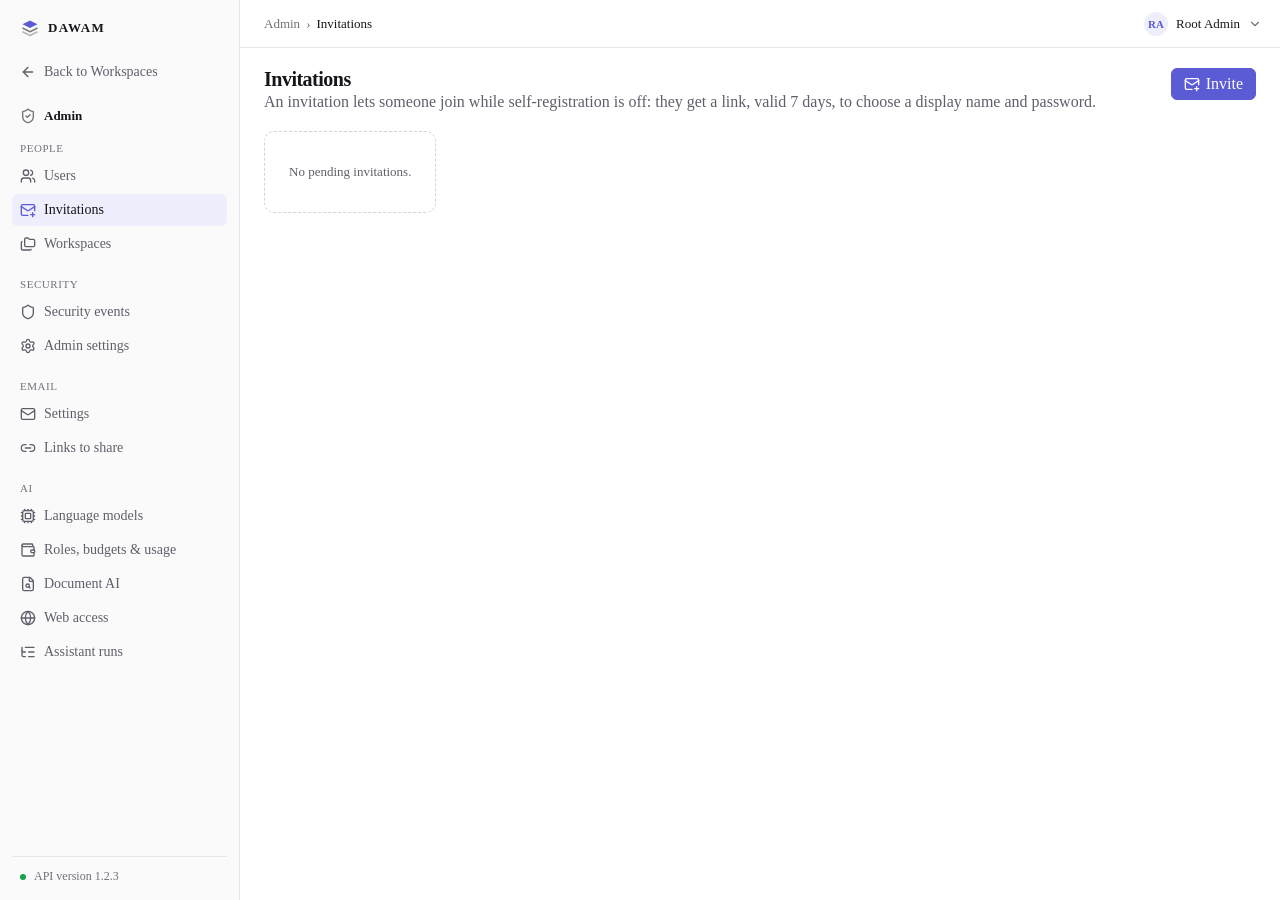
Scenario: inviting someone › shows why an invitation was refused
Expected: the text "No pending invitations." is shown, [289,164,411,180]
Step 1. Click the button "Invite" → point(1213, 84), box [1171,68,1256,100]
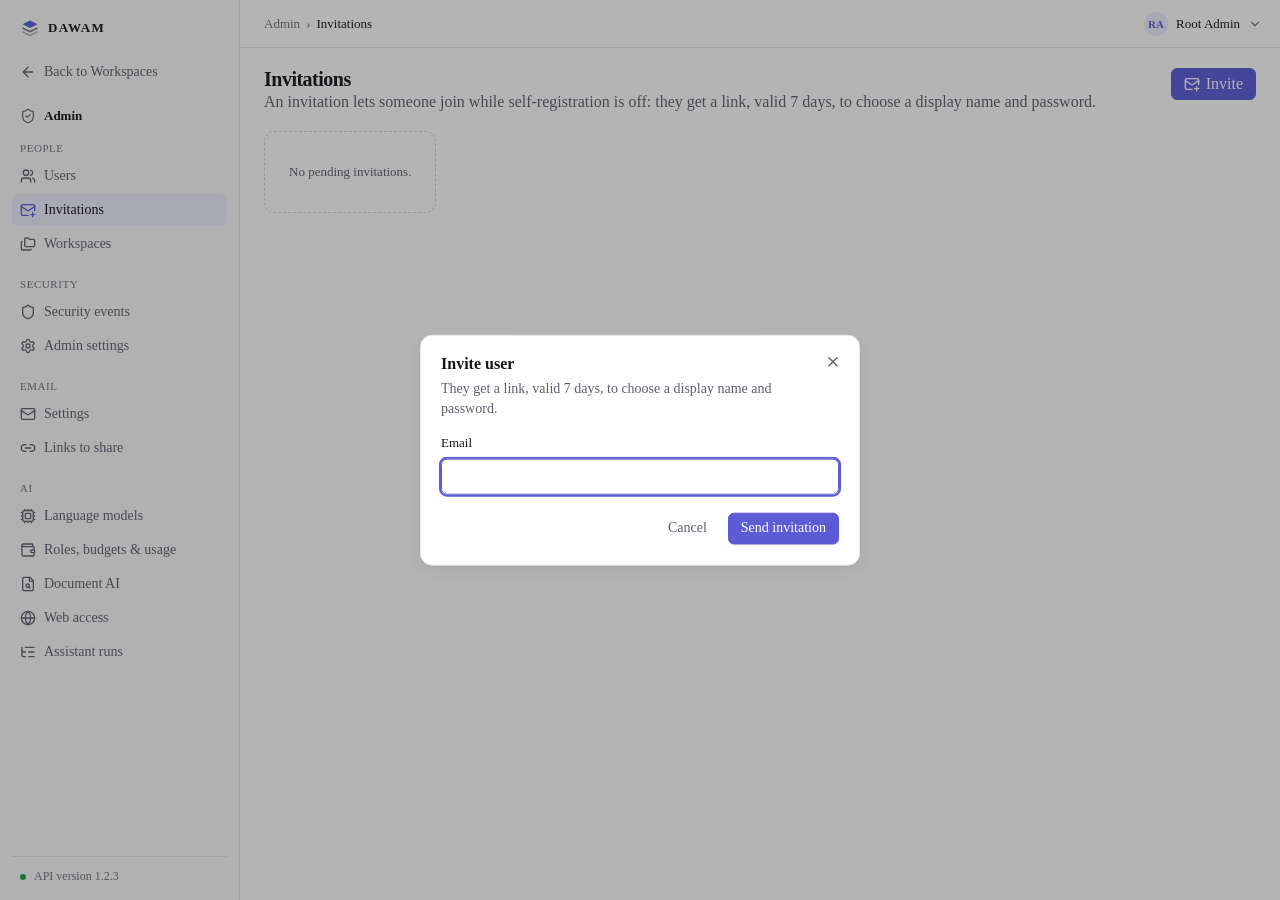
Step 2. Type "grace@example.com" into the field labelled "Email" → point(640, 476), box [441,458,839,494]
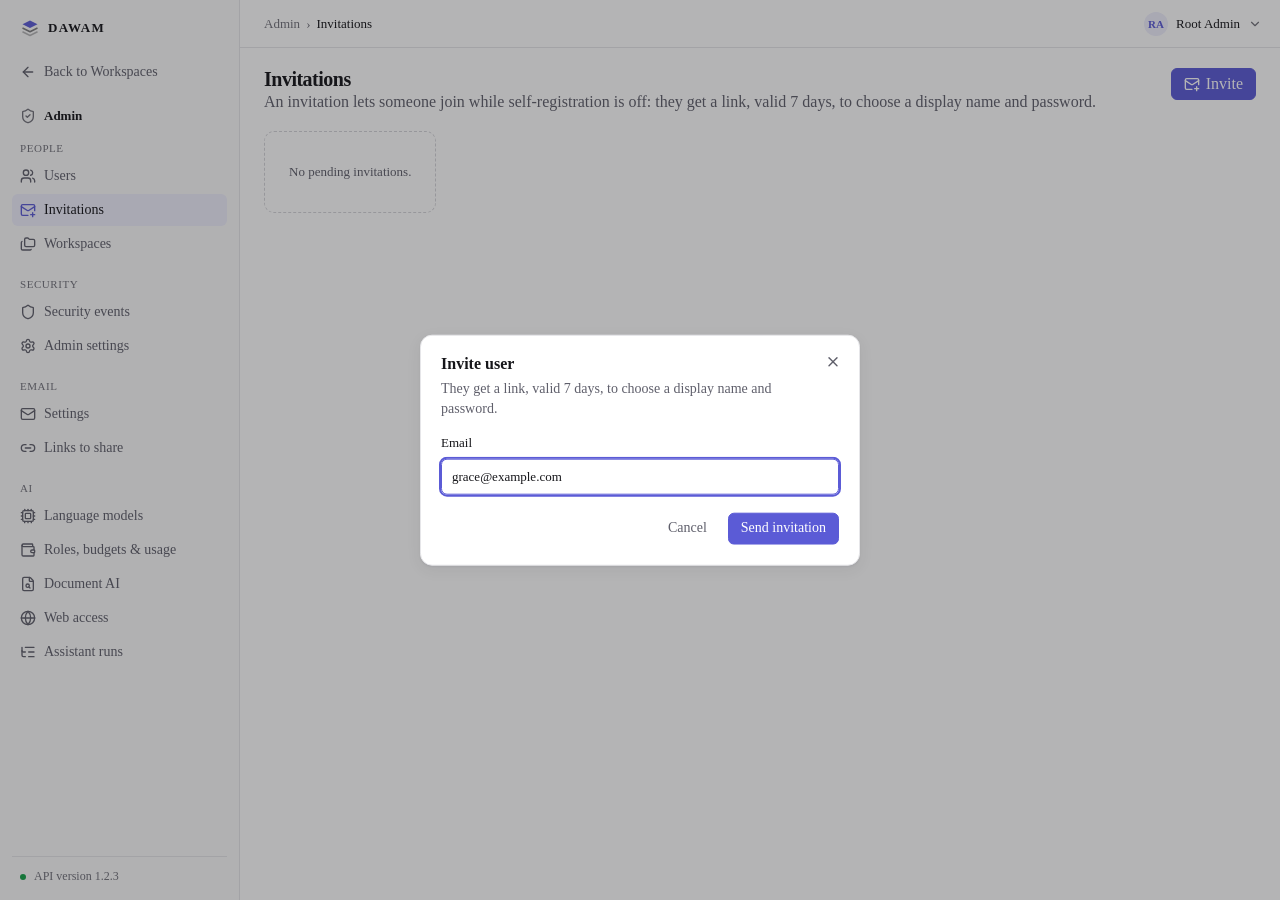
Step 3. Click the button "Send invitation" → point(783, 528), box [728,512,839,544]
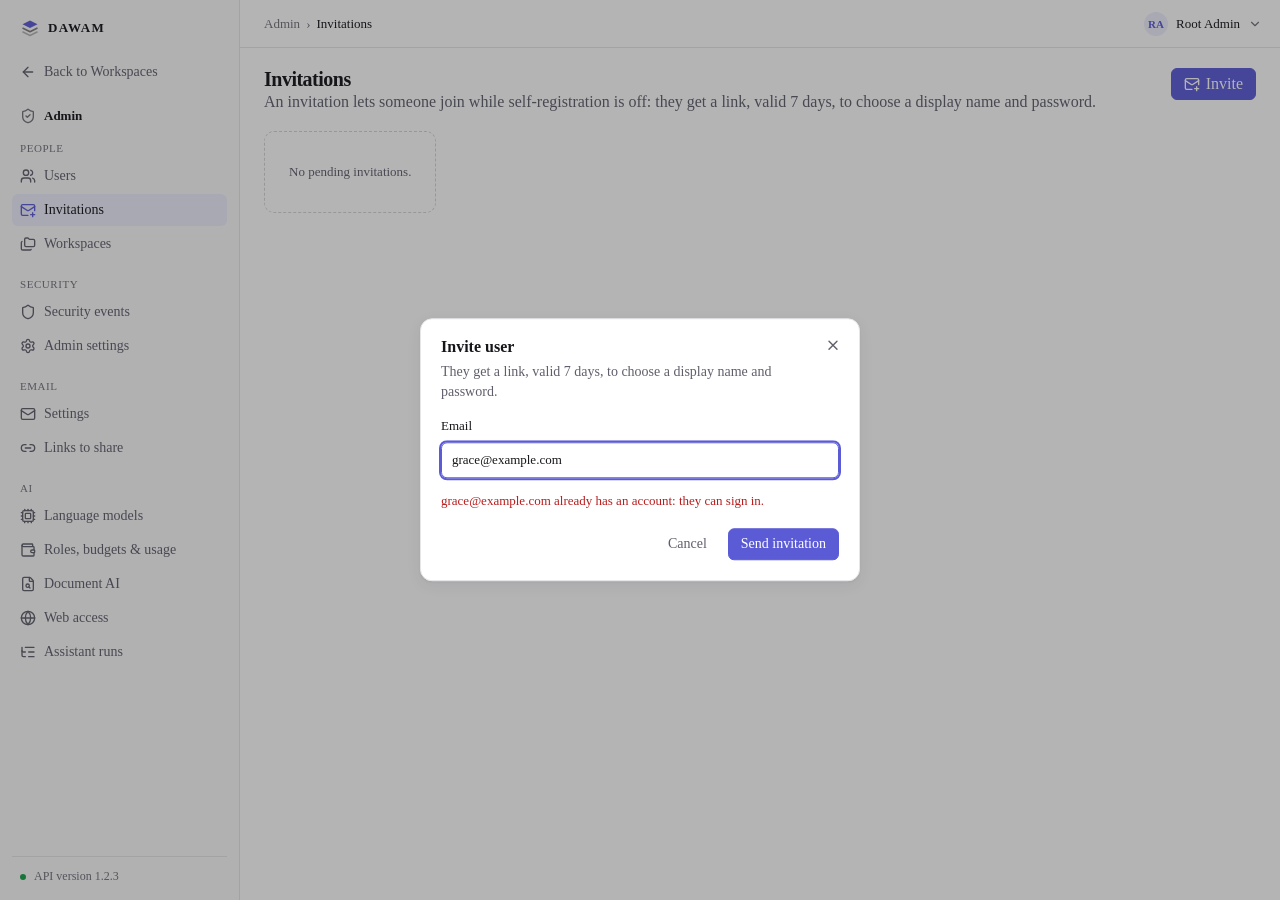
Expected: the message shows "grace@example.com already has an account", [441,493,764,508]
